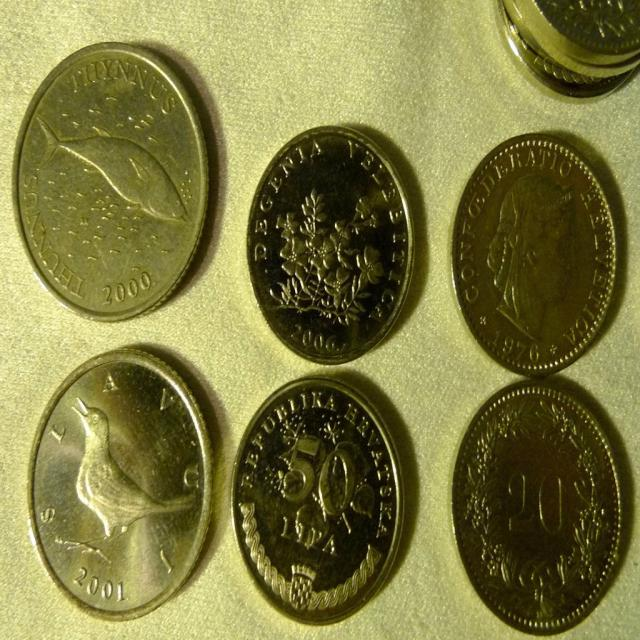Coin: (10, 37, 209, 319), (24, 343, 219, 622), (449, 378, 627, 638), (232, 374, 405, 626), (450, 133, 621, 380), (249, 127, 413, 363), (494, 0, 640, 105), (504, 0, 638, 74), (518, 0, 640, 64)
